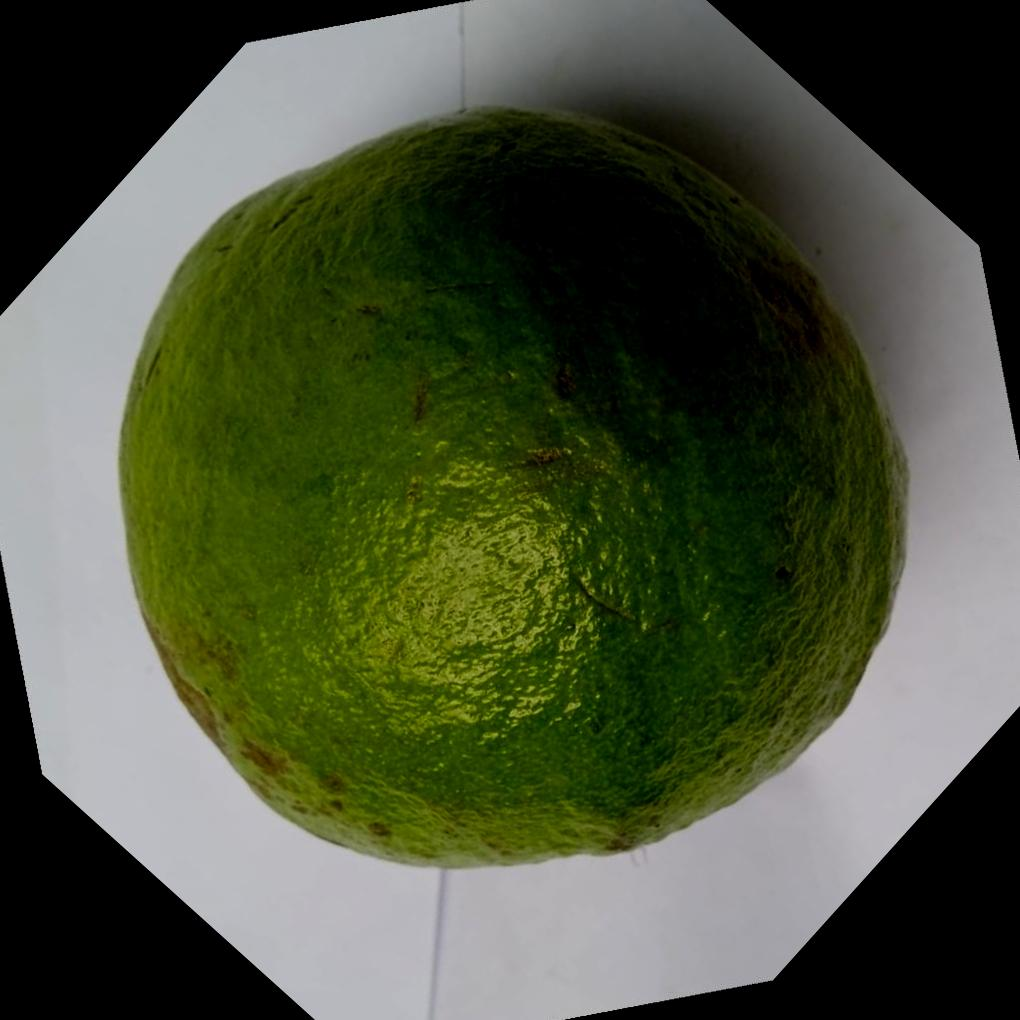FreshGuava: (112, 102, 908, 869)
